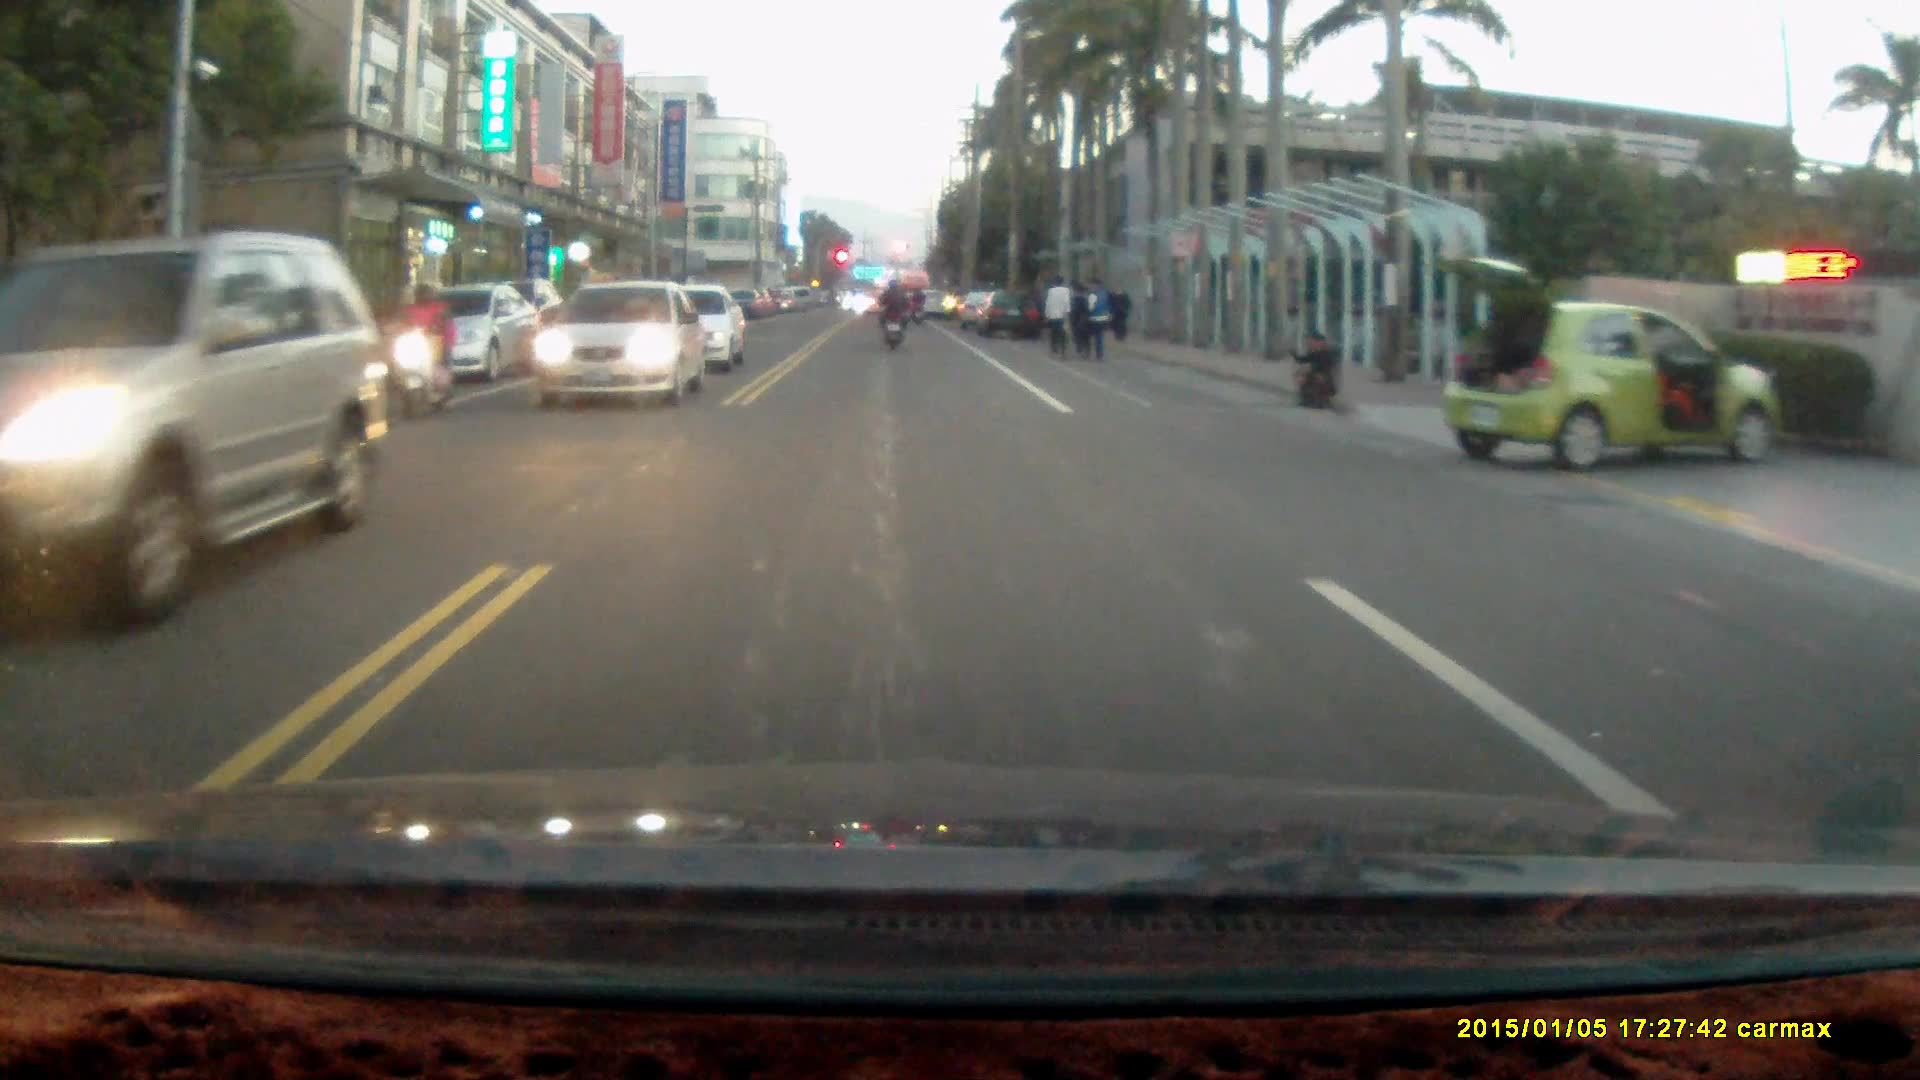pedestrian: (1289, 330, 1343, 412), (1073, 275, 1111, 362), (1042, 274, 1070, 362), (1063, 282, 1092, 365), (1106, 279, 1131, 341)
rider: (397, 280, 461, 423), (874, 276, 909, 353)
vehicle: (1, 233, 403, 649), (1428, 256, 1787, 473), (528, 281, 706, 418), (408, 286, 540, 394), (642, 284, 746, 377), (971, 291, 1043, 341)
